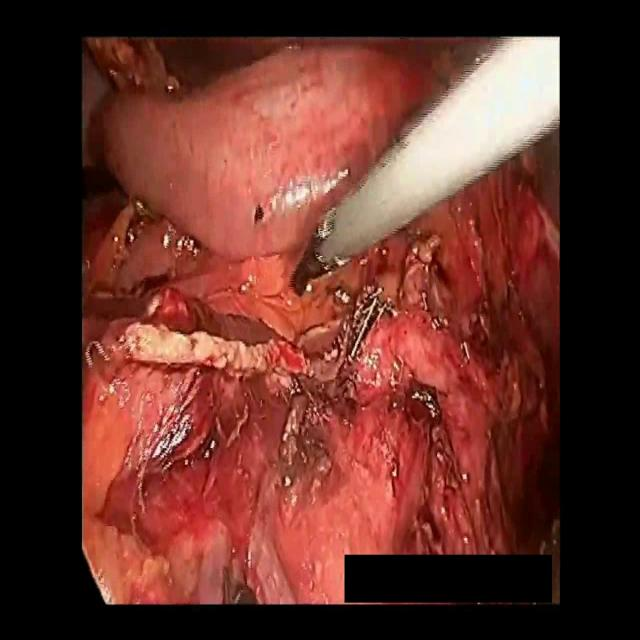surgical-area: (82, 33, 560, 604)
surgical-tool: (288, 33, 560, 299)
